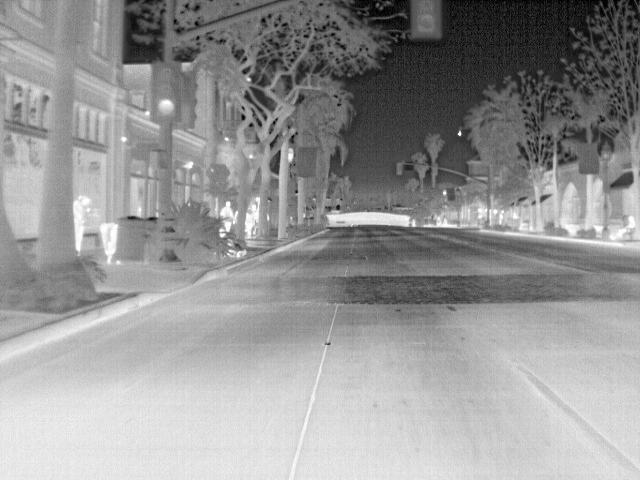person: (72, 194, 88, 255), (217, 198, 239, 234)
